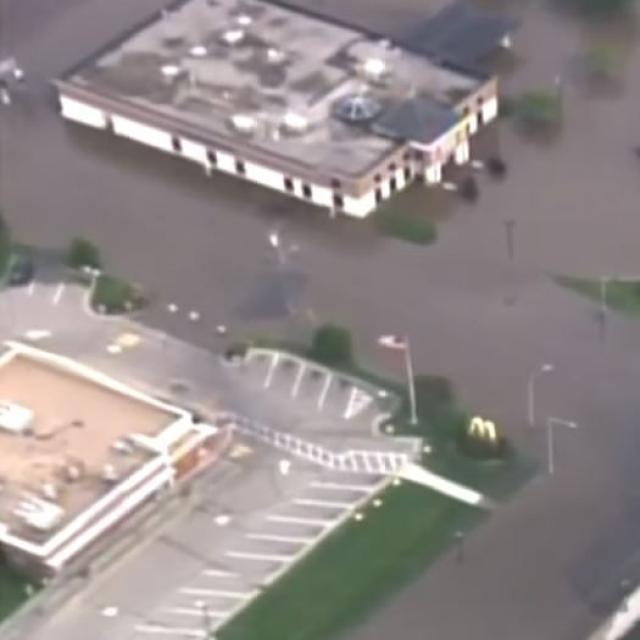flooded_areas: (7, 0, 639, 381)
